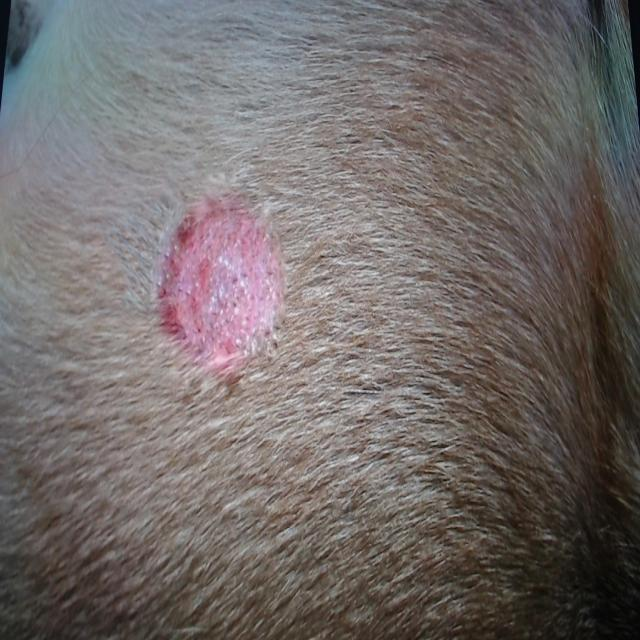ringworm: (144, 163, 295, 386)
